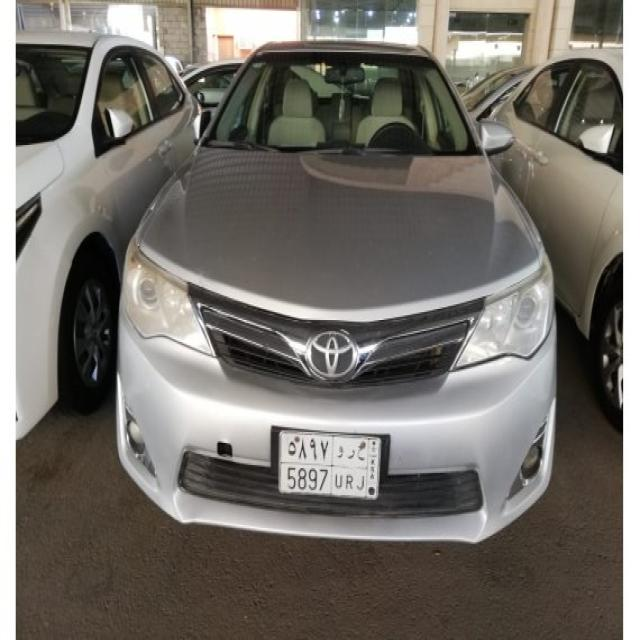license_plate: (276, 429, 384, 501)
